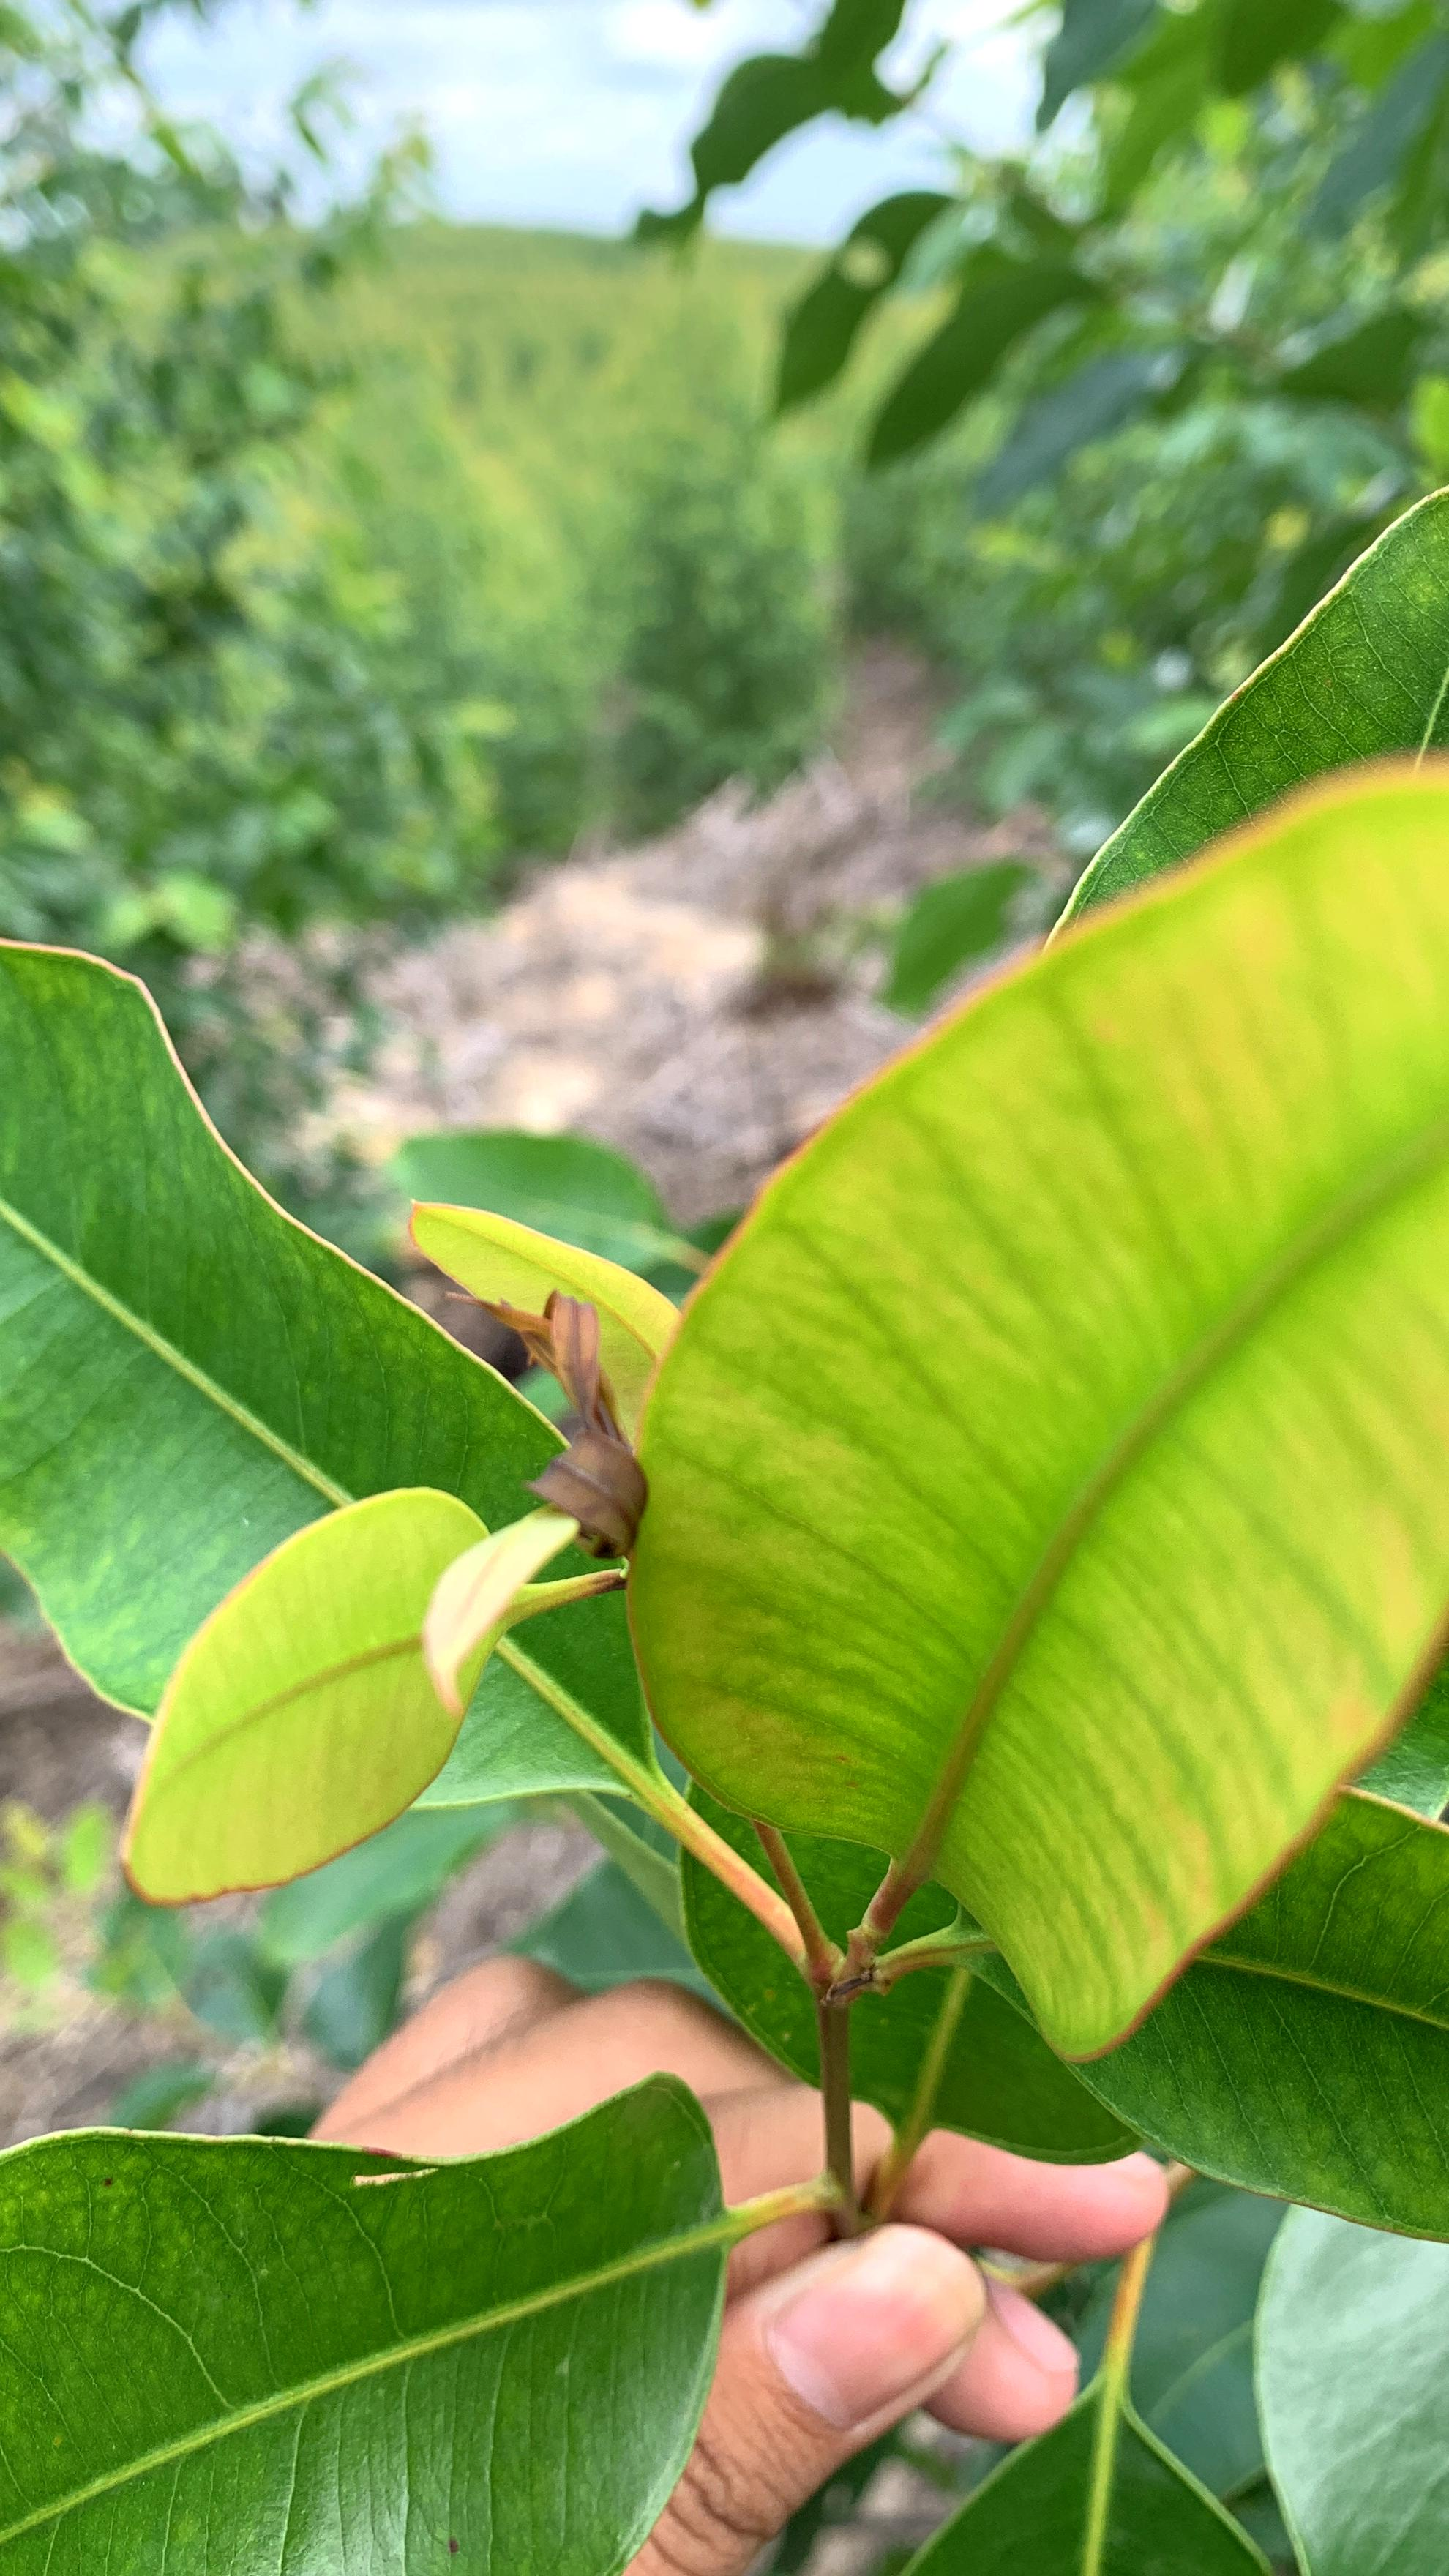Helopeltis-Withered Sprout: (412, 1267, 667, 1606)
